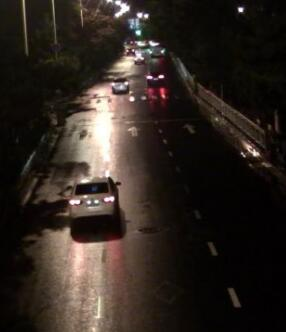car: (69, 174, 122, 224), (145, 63, 165, 84), (110, 74, 129, 95), (149, 41, 165, 58), (133, 47, 148, 63), (124, 39, 133, 57)
